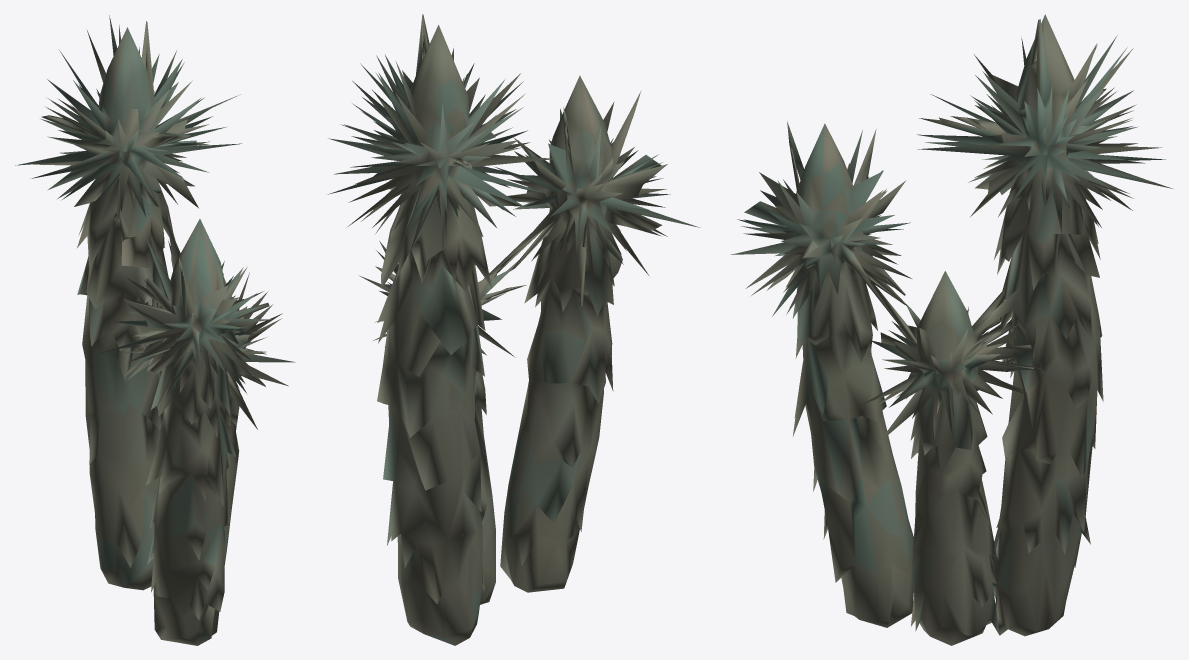
File: yucca_cluster.glb
3 views of the same model, side by side, from view 1: azimuth 30°, elevation 25°; view 2: azimuth 150°, elevation 25°; view 3: azimuth 270°, elevation 25° (orthographic). The views are drawn at different scales.
Visible parts, largest first — view 1: LO.001; view 2: LO.001; view 3: LO.001.
Boxes of the visible parts, x1,y1,x2,y2 form: LO.001: [15, 15, 295, 645]; LO.001: [328, 14, 700, 645]; LO.001: [730, 14, 1172, 645].
Size of the model in its own units: 1.31 by 2.79 by 1.82.
1 material, 1 textured.
